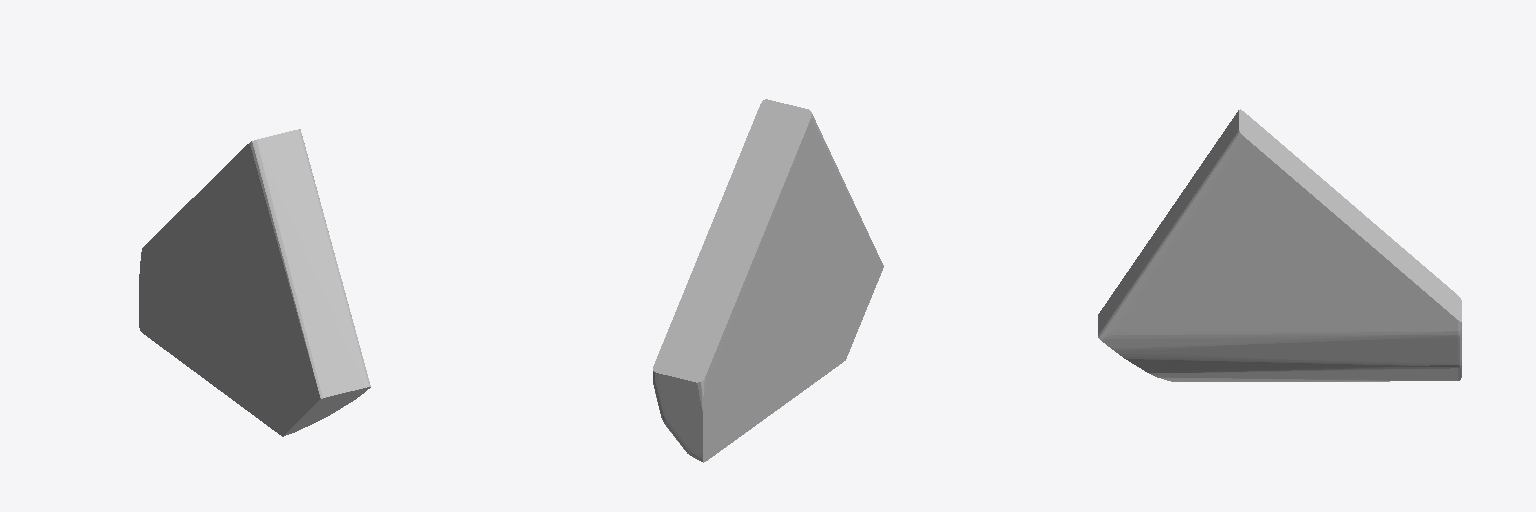
File: Carbon_Mov_Finger_021_v1_1_mesh_collision_7.obj
3 views of the same model, side by side, from view 1: azimuth 30°, elevation 25°; view 2: azimuth 150°, elevation 25°; view 3: azimuth 270°, elevation 25° (orthographic).
Bounding box in the file's own units: 0.0033 × 0.0167 × 0.0201.